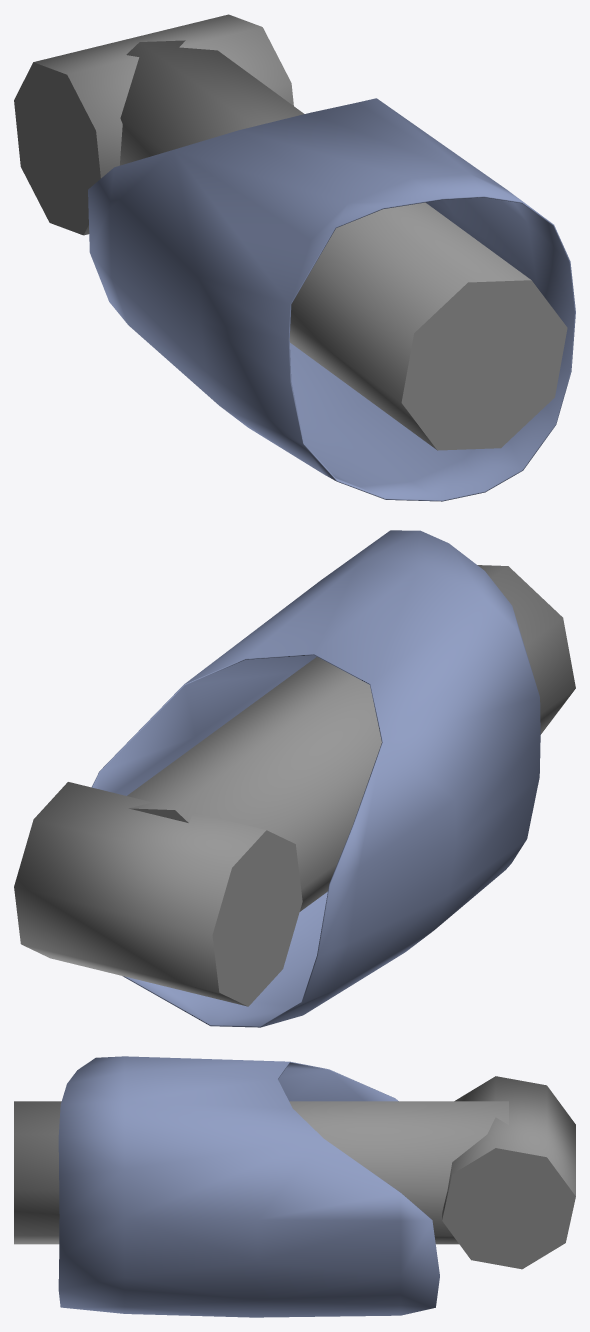
Rendered from icub_simple_l_thigh.dae.
3 views of the same model, one above another, from view 1: azimuth 30°, elevation 25°; view 2: azimuth 150°, elevation 25°; view 3: azimuth 270°, elevation 25° (orthographic). The views are drawn at different scales.
Parts seen in each view (by area): view 1: l_thigh_mesh; view 2: l_thigh_mesh; view 3: l_thigh_mesh.
Boxes of the visible parts, bbox=[...] form: l_thigh_mesh: bbox=[14, 14, 575, 501]; l_thigh_mesh: bbox=[14, 530, 575, 1027]; l_thigh_mesh: bbox=[14, 1056, 575, 1317].
Size of the model in its own units: 0.1024 by 0.1173 by 0.2543.
